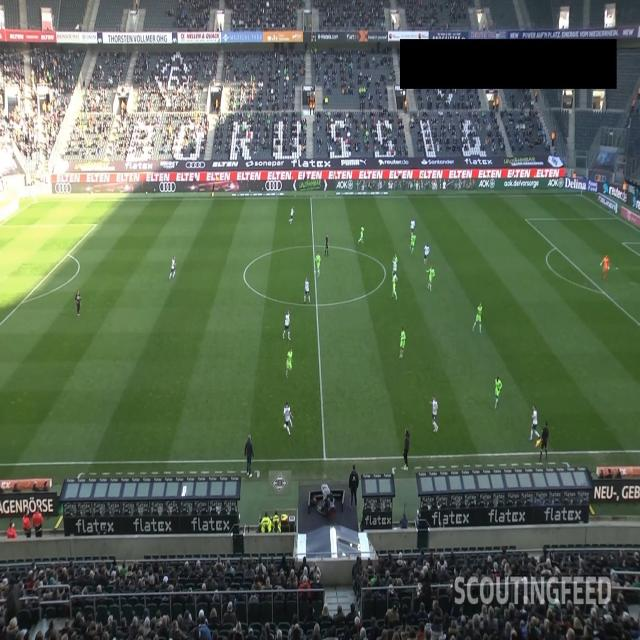ball: (283, 422, 287, 430)
